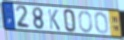0: (63, 8, 77, 33)
2: (14, 5, 31, 30)
8: (31, 7, 45, 31)
K: (47, 8, 61, 32)
O: (78, 11, 94, 34), (94, 11, 109, 35)
